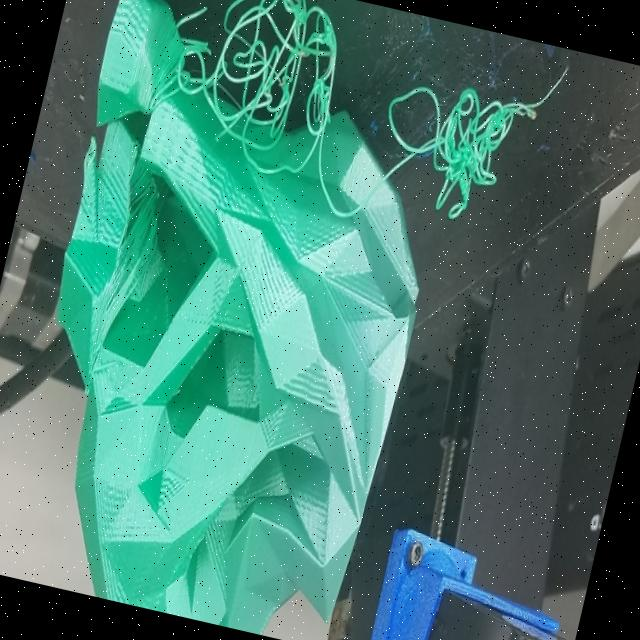spaghetti: (153, 0, 364, 193), (366, 38, 545, 238)
